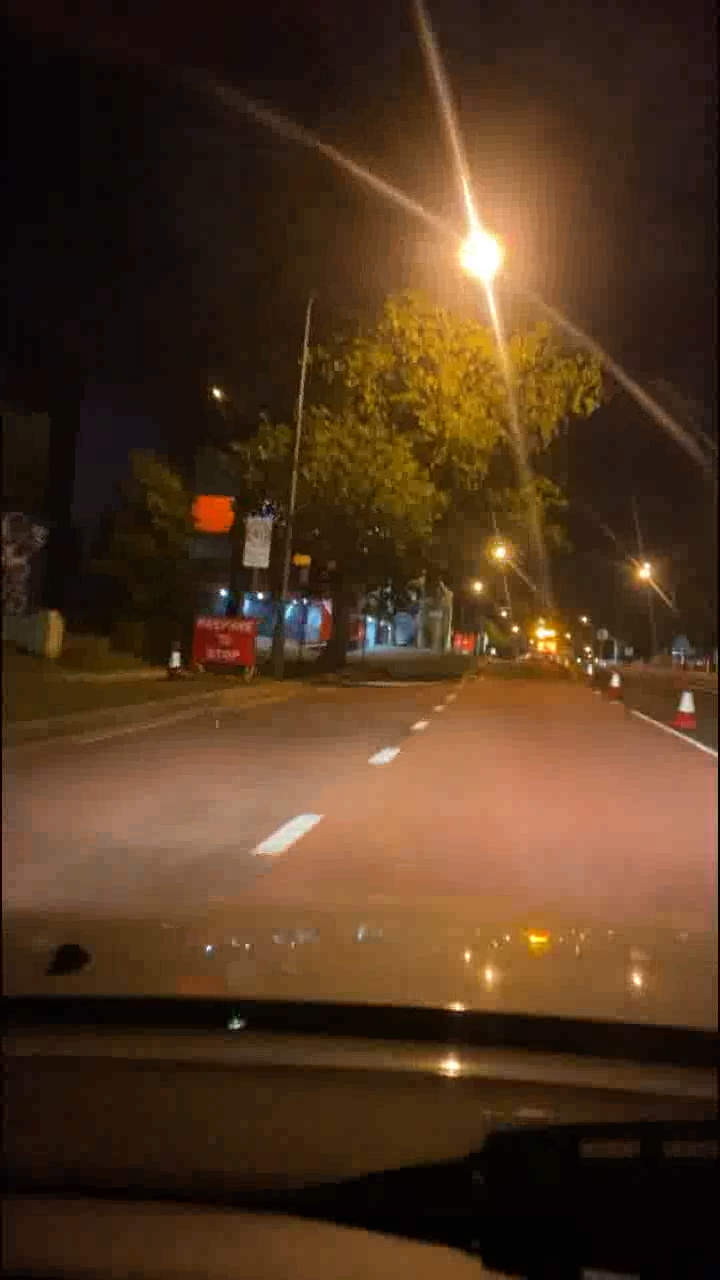prepare to stop board: (191, 611, 260, 669)
road cone: (599, 654, 633, 715), (674, 675, 702, 738)
